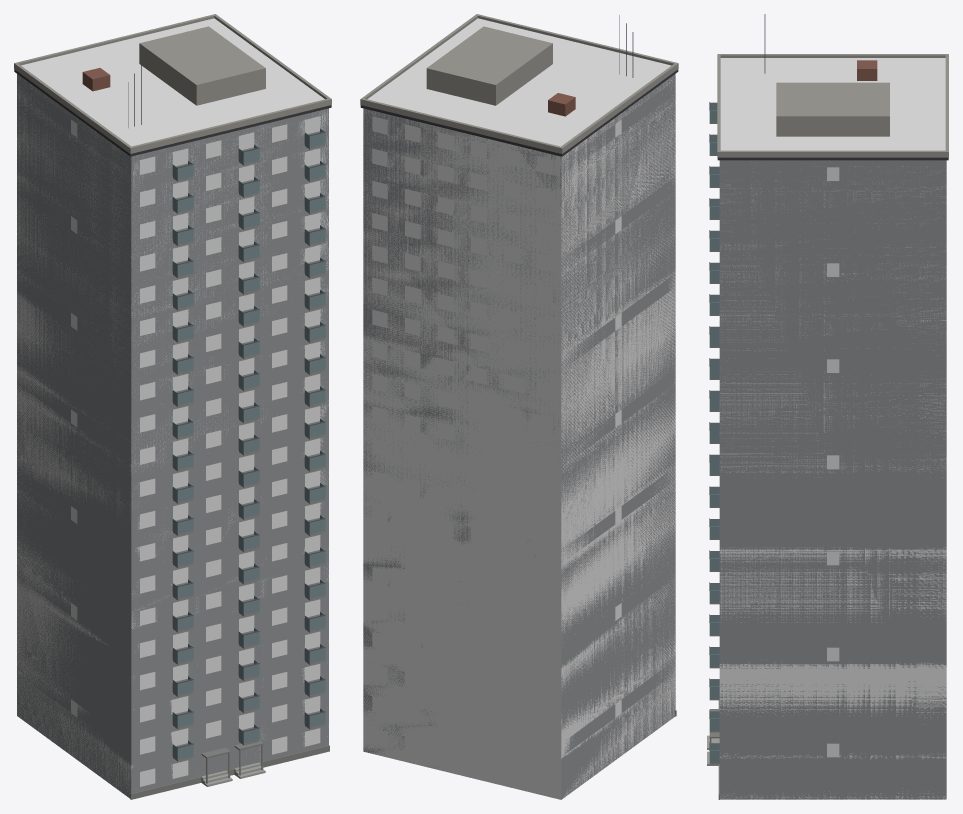
Rendered from residential_tower.glb.
The picture shows the model from 3 angles, left to right: view 1: azimuth 30°, elevation 25°; view 2: azimuth 150°, elevation 25°; view 3: azimuth 270°, elevation 25°; orthographic projection.
Visible parts, largest first — view 1: facade_front, facade_left, residential_tower-col, tech_floor, parapet_y, parapet_x, roof_slab, plinth, parapet_y.001, parapet_x.001; view 2: residential_tower-col, facade_left, facade_back, tech_floor, parapet_y.001, parapet_x, roof_slab, parapet_y, parapet_x.001; view 3: facade_right, residential_tower-col, tech_floor, parapet_x.001, roof_slab, parapet_x, vent_stack.
Part boxes in pixels (left/top/right/bottom): facade_front: left=131, top=108, right=328, bottom=793; facade_left: left=17, top=74, right=131, bottom=798; residential_tower-col: left=17, top=18, right=328, bottom=797; tech_floor: left=139, top=26, right=265, bottom=105; parapet_y: left=129, top=98, right=331, bottom=153; parapet_x: left=14, top=62, right=132, bottom=153; roof_slab: left=14, top=69, right=331, bottom=156; plinth: left=130, top=745, right=329, bottom=799; parapet_y.001: left=15, top=14, right=214, bottom=65; parapet_x.001: left=213, top=14, right=331, bottom=104; residential_tower-col: left=363, top=18, right=675, bottom=799; facade_left: left=561, top=74, right=675, bottom=799; facade_back: left=363, top=108, right=561, bottom=768; tech_floor: left=426, top=26, right=552, bottom=105; parapet_y.001: left=360, top=98, right=562, bottom=153; parapet_x: left=560, top=62, right=678, bottom=153; roof_slab: left=360, top=69, right=678, bottom=156; parapet_y: left=478, top=14, right=675, bottom=65; parapet_x.001: left=360, top=14, right=478, bottom=104; facade_right: left=719, top=160, right=946, bottom=799; residential_tower-col: left=719, top=58, right=946, bottom=799; tech_floor: left=776, top=82, right=889, bottom=136; parapet_x.001: left=717, top=150, right=948, bottom=157; roof_slab: left=717, top=157, right=948, bottom=160; parapet_x: left=718, top=54, right=948, bottom=57; vent_stack: left=857, top=60, right=877, bottom=80.
Bounding box in the file's own units: 18.35 × 61.7 × 19.17.
